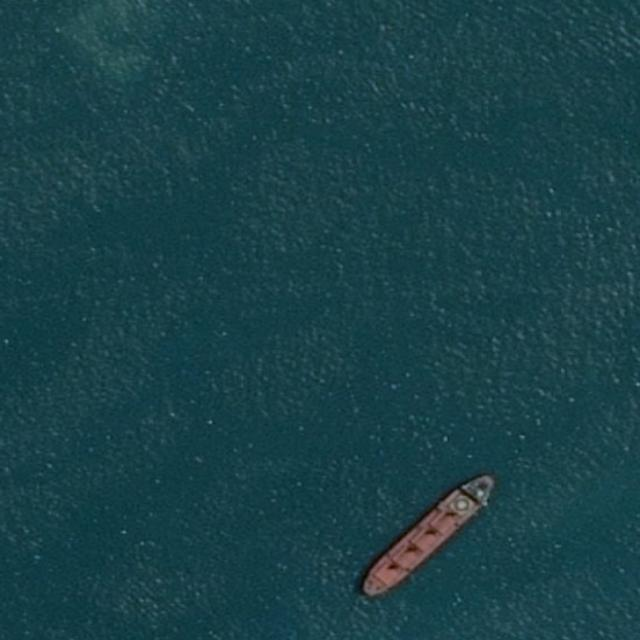Oil Tanker: (352, 464, 508, 606)
